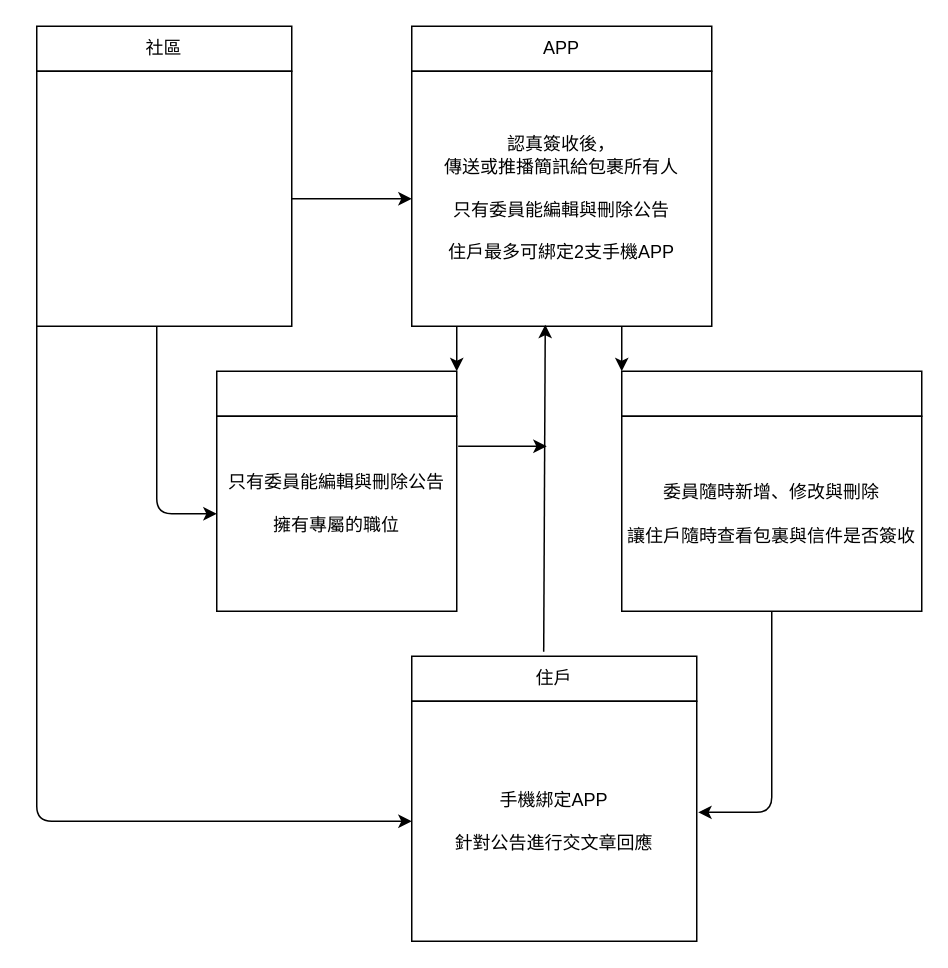
The diagram is 948 pixels wide and 968 high, and some of its shapes have lost their labels. Here are the shapes that lost their labels. From the top down, the centre of each, then its label:
At point (163, 198): "信件與包裹的收發任務 社區發布公告 包含住戶與委員".
At point (336, 393): "委員".
At point (771, 393): "發布公告".
